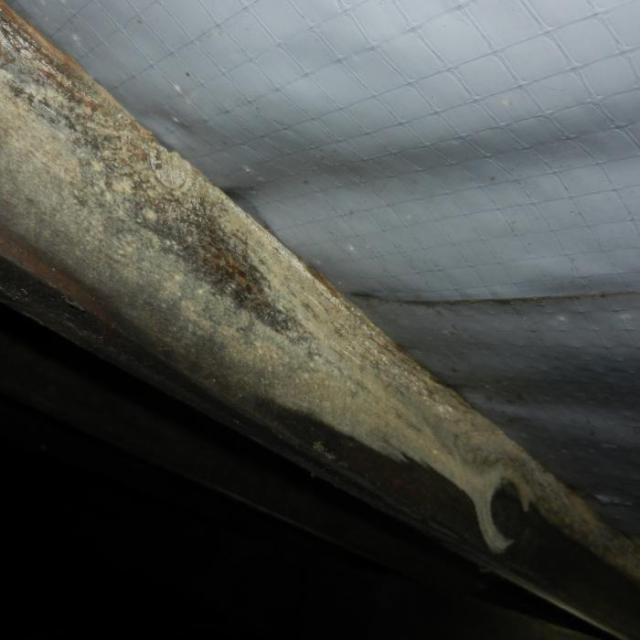mold: (0, 2, 639, 639), (0, 2, 639, 639)
